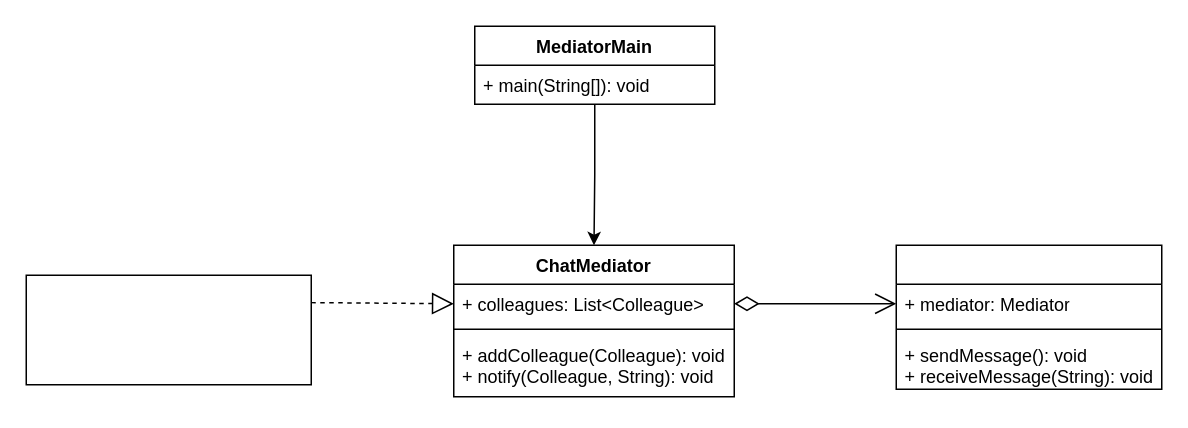
Image size: 1188x428. Some labels were removed from this diagram. The shapes that lost their labels are listed below. From the top down, each one's box as (x1, y1, x2, y2) in pixels, then its label:
(25, 274, 311, 385): <<Interface>> Mediator + notify(Colleague, String): void
(895, 244, 1162, 389): Colleague
